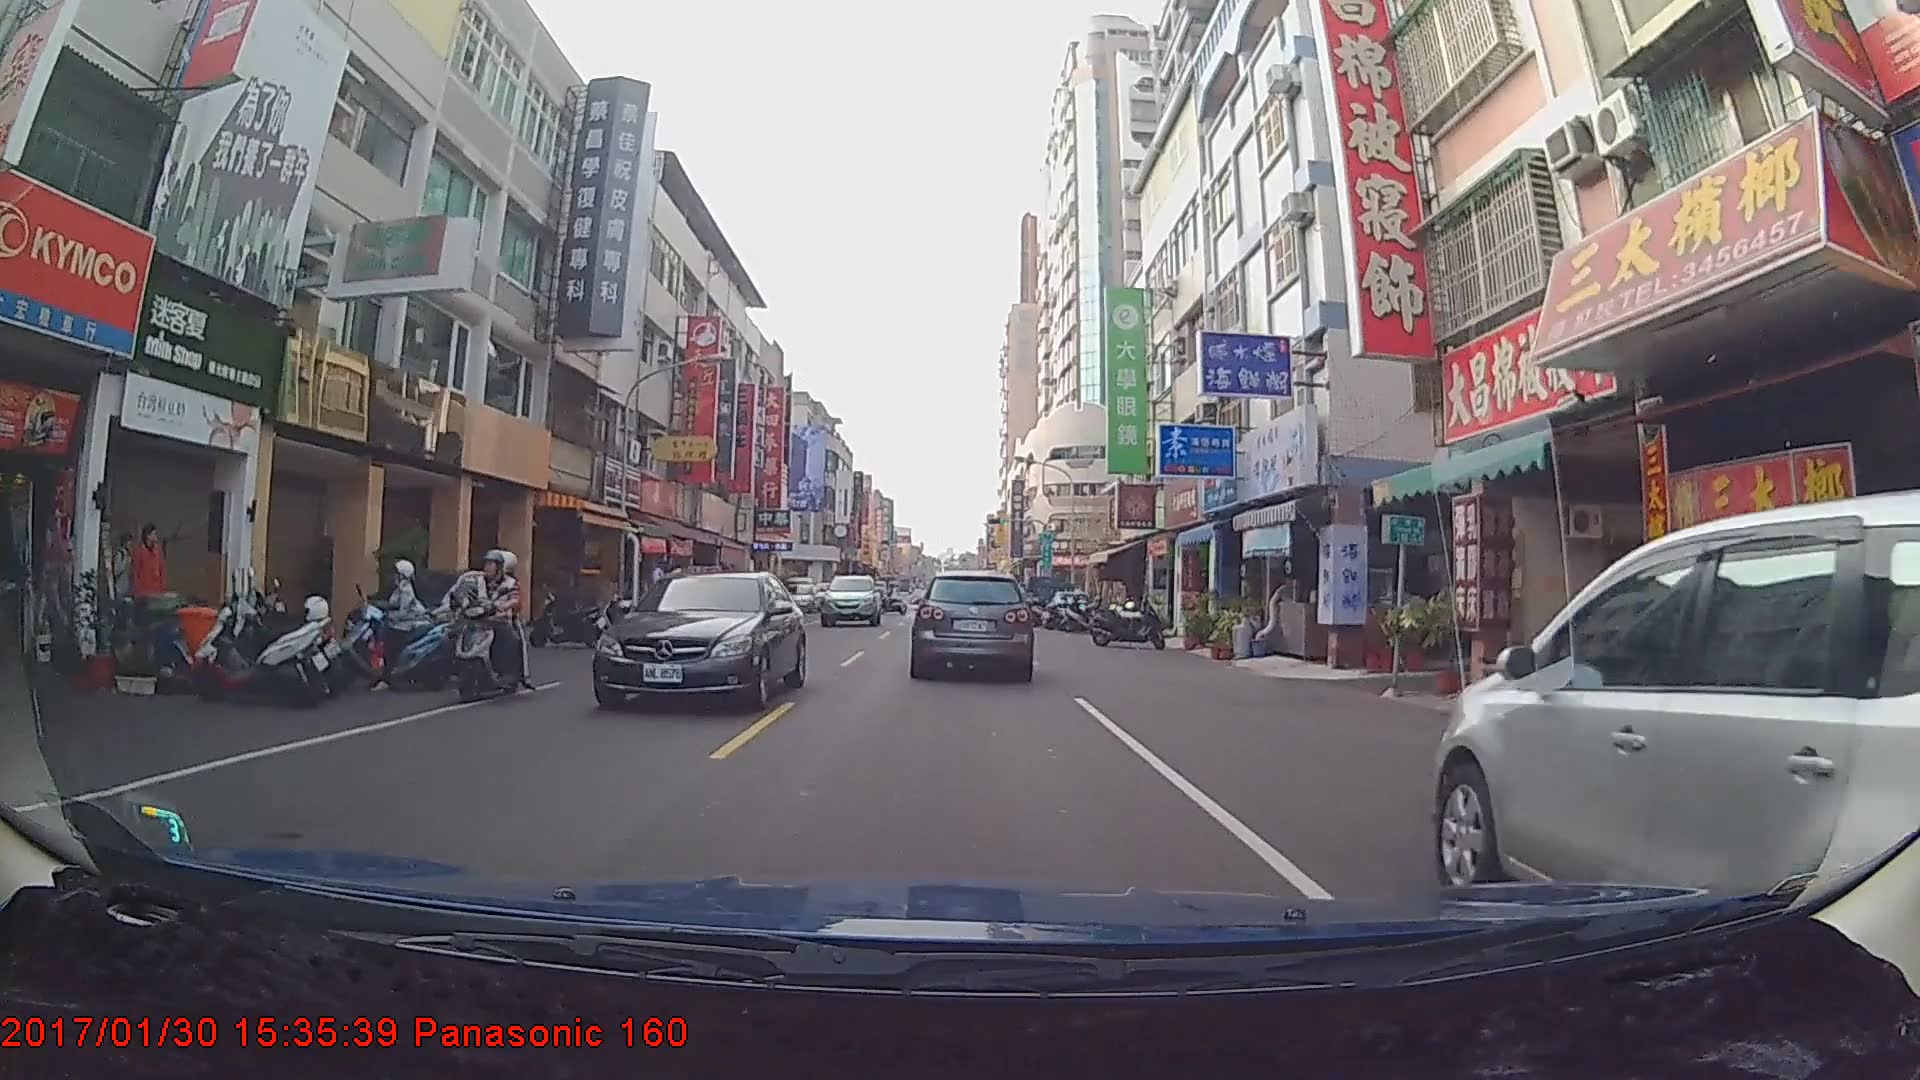pedestrian: (129, 517, 176, 644), (107, 523, 145, 641)
rider: (436, 544, 538, 708)
vehicle: (1435, 495, 1920, 982), (590, 569, 806, 712), (912, 569, 1031, 680), (817, 573, 883, 628), (1024, 574, 1071, 618)
